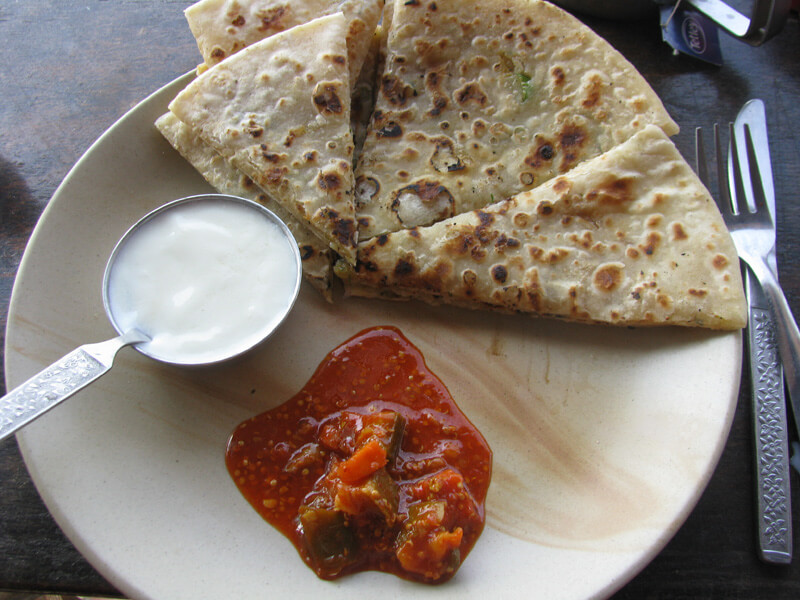aloo_paratha: (153, 5, 751, 327)
